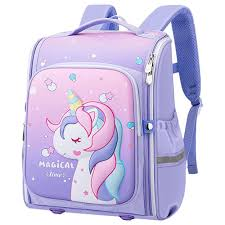bag: (26, 2, 189, 223)
